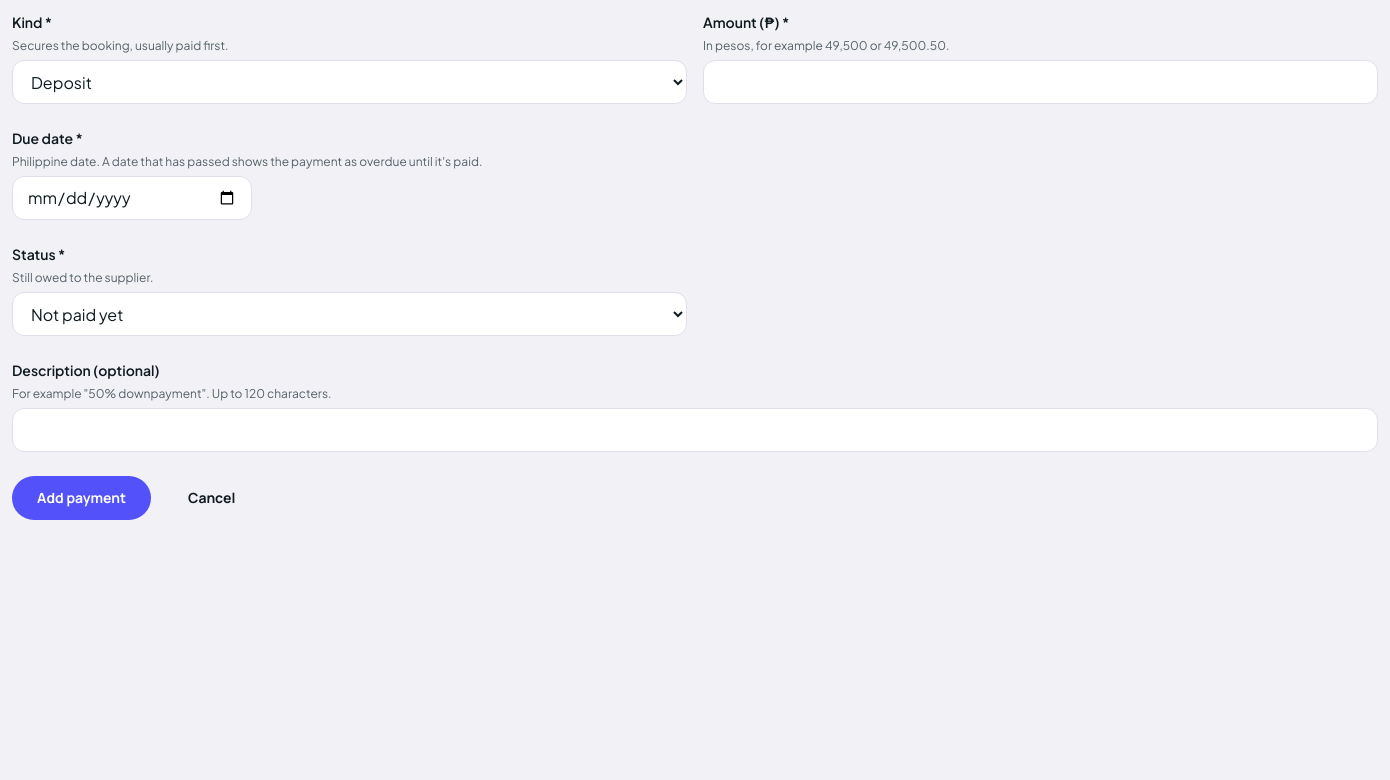
PaymentForm › shows the server's errors beside their fields, keeping what was typed
The image size is (1390, 780).
Click the button "Add payment".
click(82, 498)  # box [12,476,151,520]
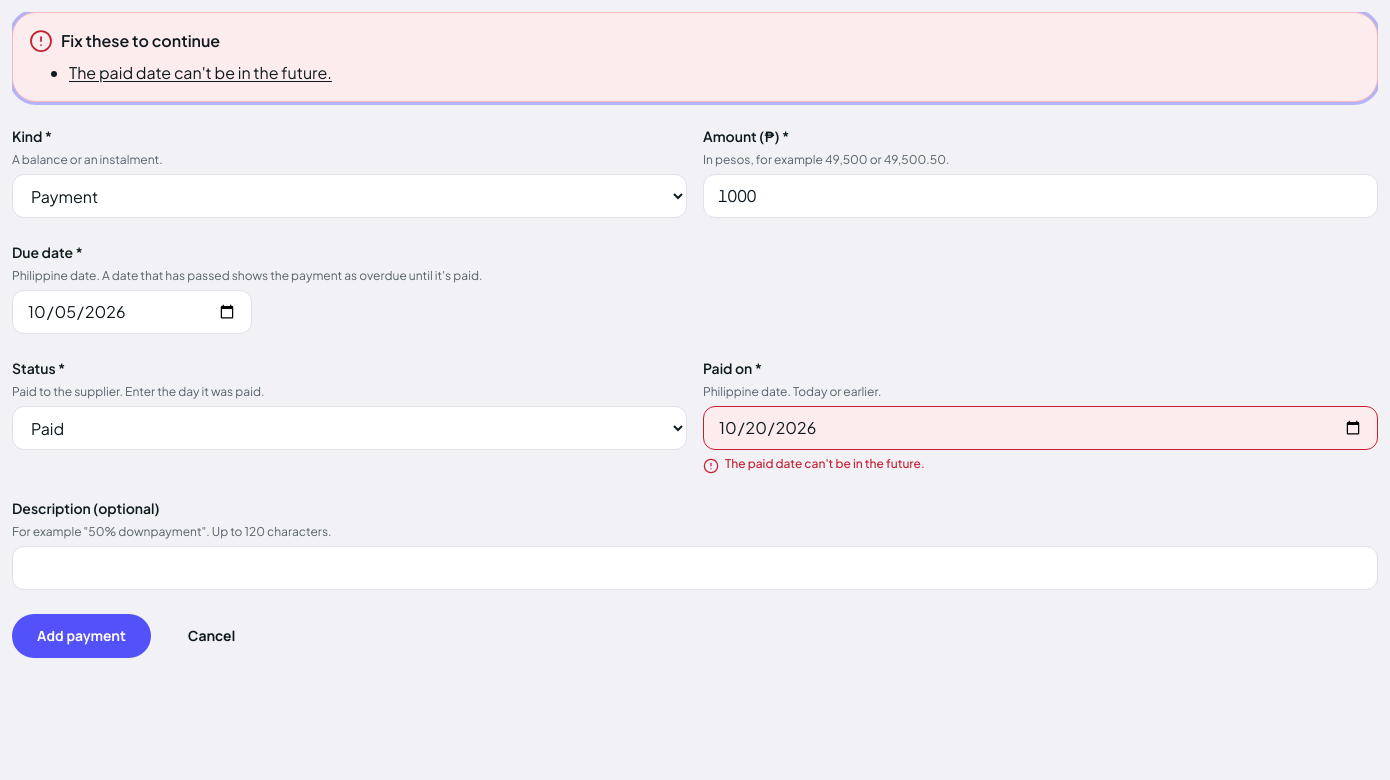
Result: the link "The paid date can't be in the future." is shown at [69,62,332,83]
Result: the date field labelled "Paid on *" holds "2026-10-20" at [703,406,1378,450]
Result: the dropdown labelled "Kind *" shows "Payment" at [12,174,687,218]
